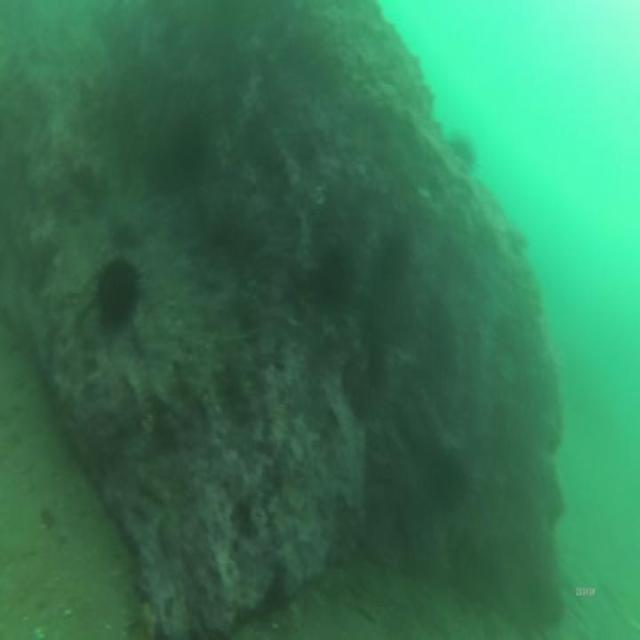echinus: (94, 247, 142, 335), (169, 102, 211, 190), (311, 232, 353, 313), (377, 210, 411, 291), (438, 439, 470, 517)
